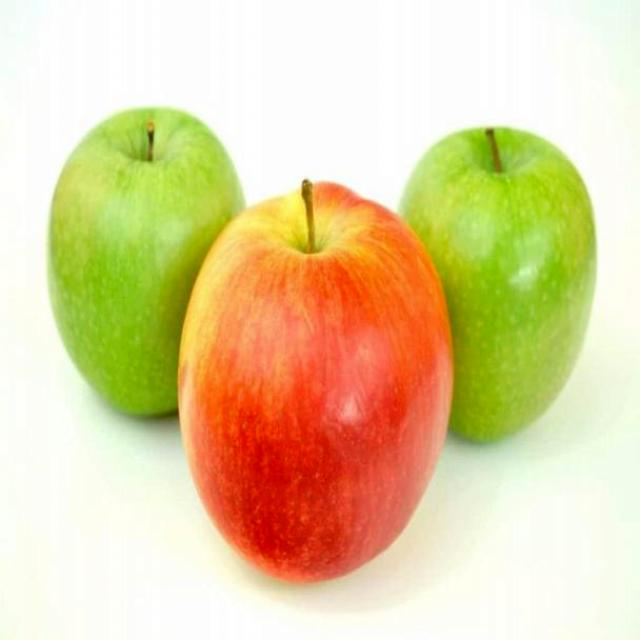HEALTHY: (201, 168, 458, 588), (443, 93, 611, 470), (38, 78, 188, 438)
